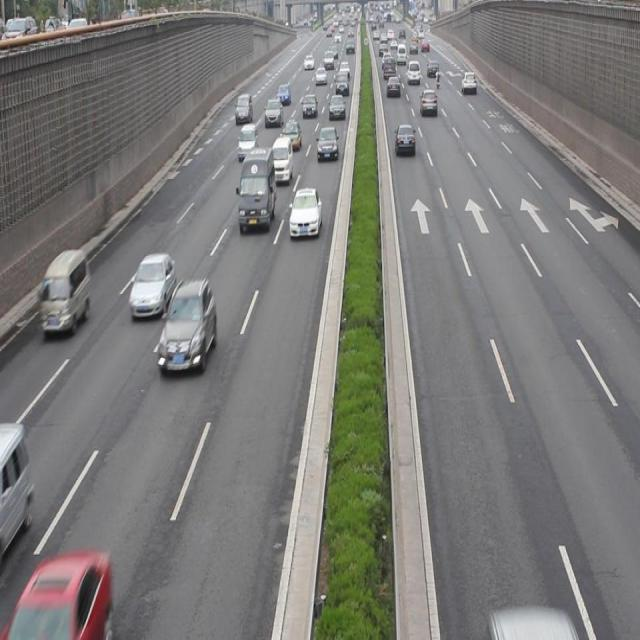car: (157, 278, 217, 373), (130, 252, 175, 319), (289, 186, 321, 238), (316, 125, 338, 161), (394, 121, 416, 156), (281, 118, 300, 149)
truck: (41, 249, 90, 335), (237, 146, 275, 232), (270, 136, 292, 183), (237, 121, 257, 158)
